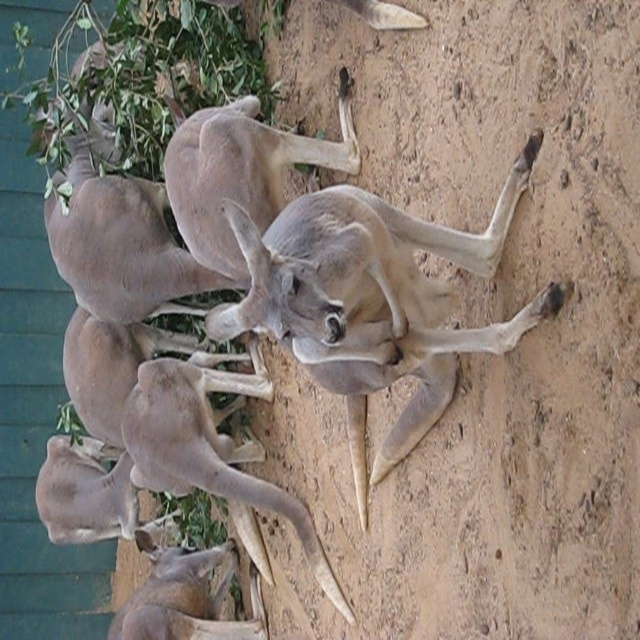Kangaroo: (34, 0, 575, 640)
